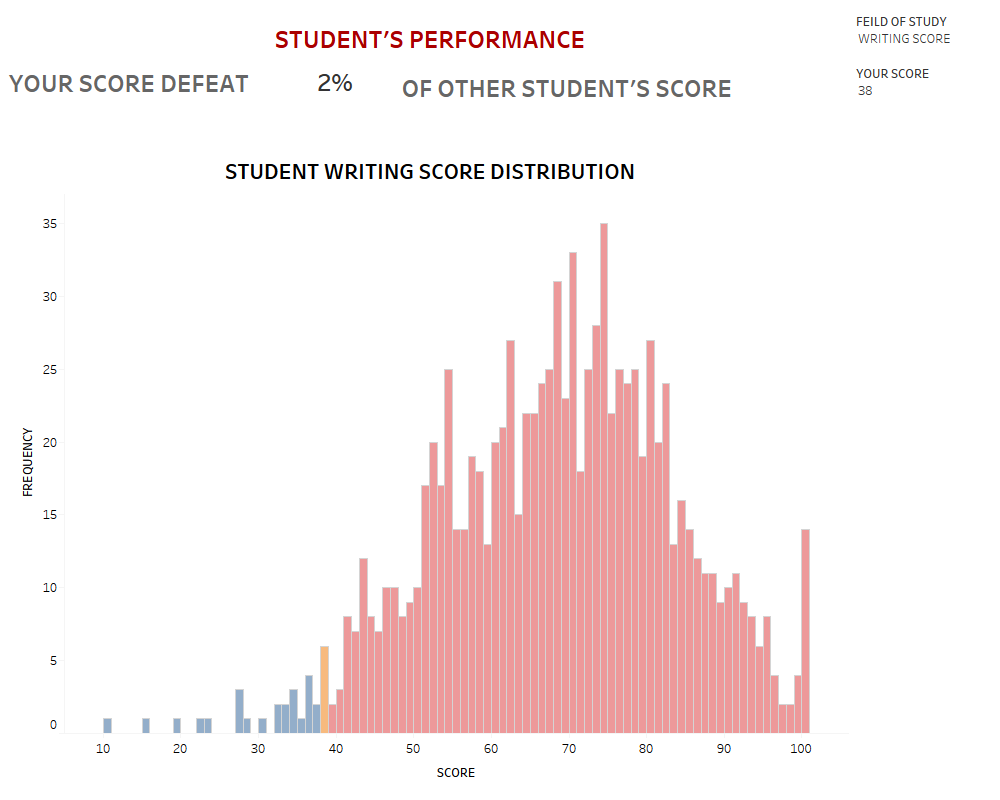

What the dashboard file says about the page in this screenshot:
{"tool":"tableau","page":{"name":"Dashboard 1","canvas":[1000,800],"ordinal":0},"visuals":[{"type":"title","box":[8,8,844,60]},{"type":"parameter","param":"[Parameters].[Parameter 1]","box":[852,8,140,52]},{"type":"parameter","param":"[Parameters].[Parameter 2]","box":[852,60,140,75]},{"type":"worksheet","title":"PERCENTAGE","mark":"Automatic","box":[305,65,93,79]},{"type":"text","box":[6,66,296,33]},{"type":"text","box":[399,70,394,35]},{"type":"worksheet","title":"FIELD","mark":"Bar","rows":["Calculation_70650259385319425"],"cols":["Calculation_70650259382382592"],"box":[8,146,844,646]}]}

Visuals, with their boxes in screenshot pixels (x1, y1, x2, y2), scaled from the page's 1000x800 canvas onto the 1000x800 screenshot:
title: (left=8, top=8, right=852, bottom=68)
parameter: (left=852, top=8, right=992, bottom=60)
parameter: (left=852, top=60, right=992, bottom=135)
"PERCENTAGE" worksheet: (left=305, top=65, right=398, bottom=144)
text: (left=6, top=66, right=302, bottom=99)
text: (left=399, top=70, right=793, bottom=105)
"FIELD" worksheet (Bar marks): (left=8, top=146, right=852, bottom=792)
